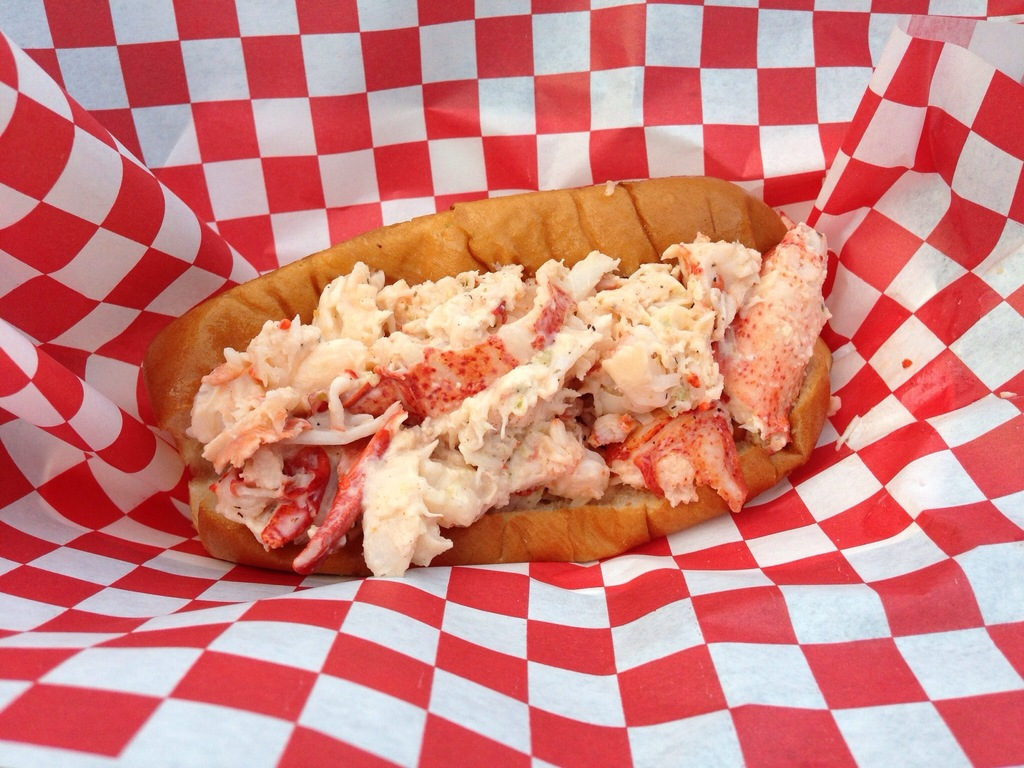sandwich: (143, 167, 835, 577)
